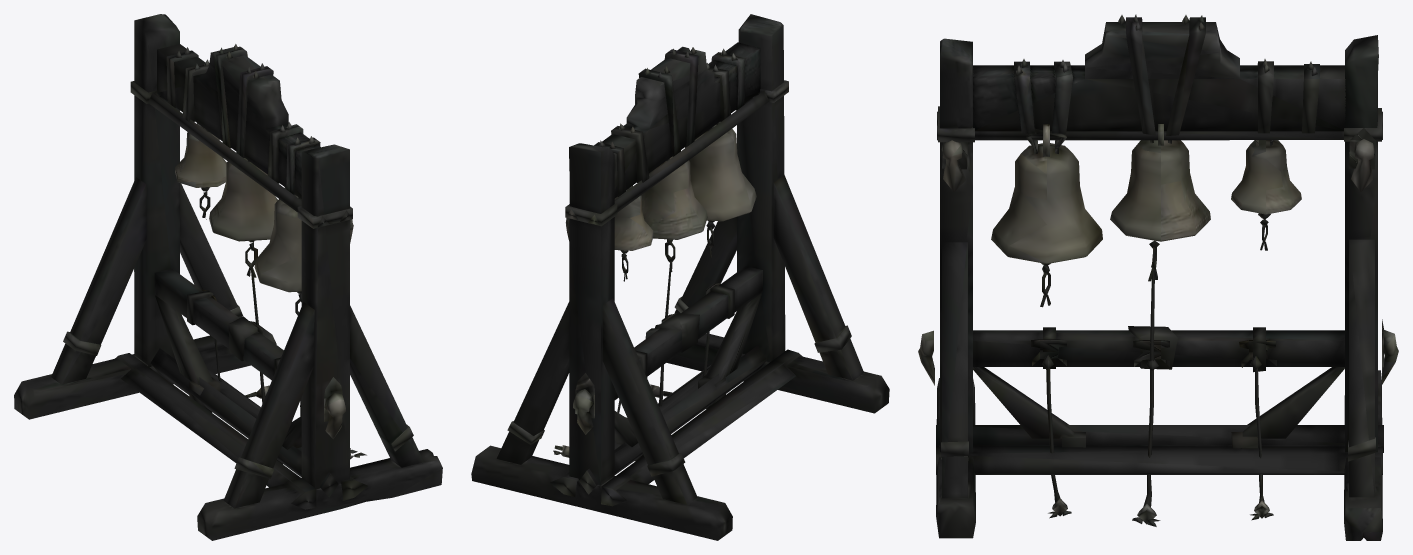
Rendered from bell_frame.glb.
The picture shows the model from 3 angles, left to right: view 1: azimuth 30°, elevation 25°; view 2: azimuth 150°, elevation 25°; view 3: azimuth 270°, elevation 25°; orthographic projection. The views are drawn at different scales.
Visible parts, largest first — view 1: tripo_node_0dc562c8-4a68-4fc5-b817-d41a317c9dd8; view 2: tripo_node_0dc562c8-4a68-4fc5-b817-d41a317c9dd8; view 3: tripo_node_0dc562c8-4a68-4fc5-b817-d41a317c9dd8.
Boxes of the visible parts, box(x1,y1,x2,y2) form: tripo_node_0dc562c8-4a68-4fc5-b817-d41a317c9dd8: box(14, 14, 442, 540); tripo_node_0dc562c8-4a68-4fc5-b817-d41a317c9dd8: box(471, 14, 889, 540); tripo_node_0dc562c8-4a68-4fc5-b817-d41a317c9dd8: box(918, 14, 1398, 540).
Bounding box in the file's own units: 0.666 × 0.998 × 0.9394.
Materials: 1 (1 with a texture image).
